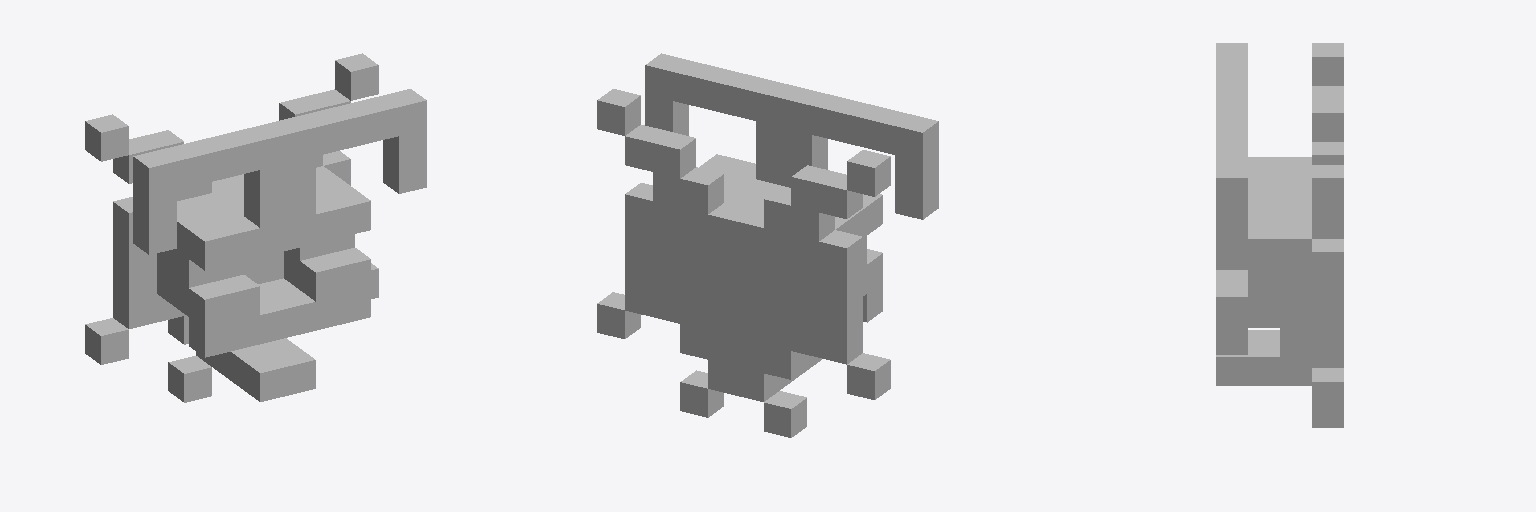
File: alien2.obj
The picture shows the model from 3 angles: view 1: azimuth 30°, elevation 25°; view 2: azimuth 150°, elevation 25°; view 3: azimuth 270°, elevation 25°; orthographic projection.
Parts seen in each view (by area): view 1: object 1; view 2: object 1; view 3: object 1.
Part boxes in pixels (x1,y1,x2,y2): object 1: (85,53,426,402); object 1: (597,53,938,437); object 1: (1216,43,1343,427).
Size of the model in its own units: 1 by 1 by 0.4.